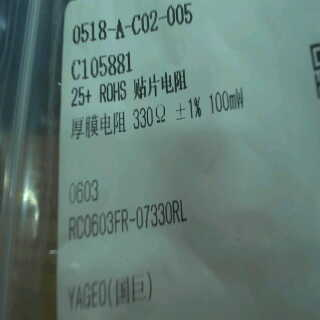330R: (128, 100, 170, 134)
